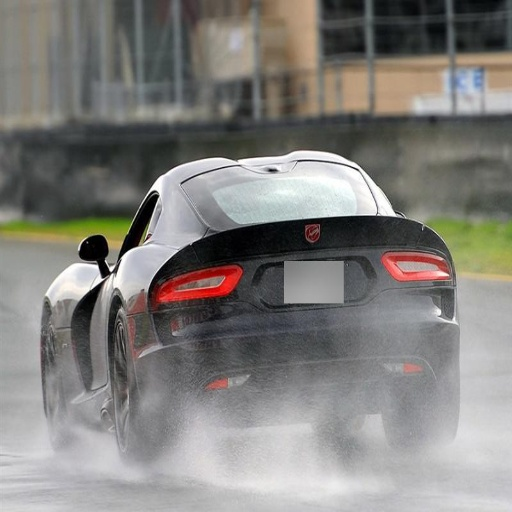back_bumper: (374, 285, 460, 380)
trunk: (269, 214, 423, 381)
